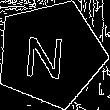N_N: (28, 27, 73, 80)
